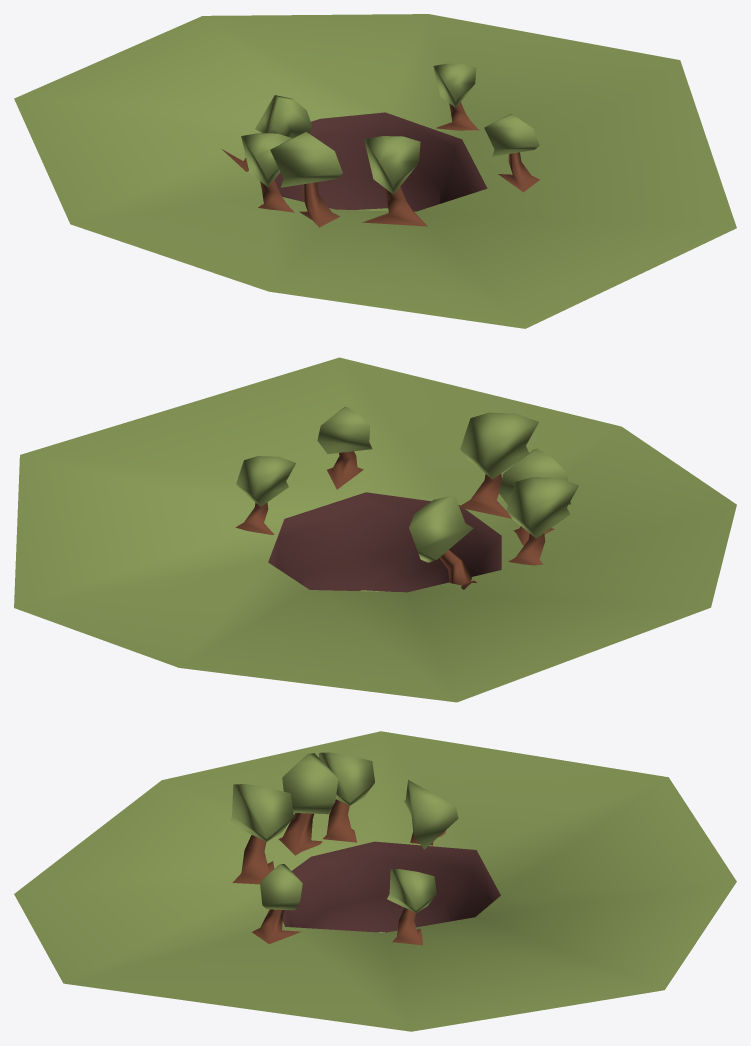
The model's file is DemoSceneProj.fbx.
The picture shows the model from 3 angles, top to bottom: view 1: azimuth 30°, elevation 25°; view 2: azimuth 150°, elevation 25°; view 3: azimuth 270°, elevation 25°; orthographic projection. The views are drawn at different scales.
Visible parts, largest first — view 1: Cylinder, Tree_003, Tree_002, Tree_005, Tree_001, Tree, Tree_004; view 2: Cylinder, Tree_002, Tree_001, Tree_004, Tree, Tree_005, Tree_003; view 3: Cylinder, Tree_002, Tree_003, Tree_001, Tree, Tree_005, Tree_004.
Boxes of the visible parts, left/top/right/bottom form: Cylinder: left=14, top=14, right=736, bottom=328; Tree_003: left=270, top=131, right=342, bottom=227; Tree_002: left=362, top=136, right=427, bottom=226; Tree_005: left=484, top=114, right=539, bottom=192; Tree_001: left=241, top=133, right=294, bottom=212; Tree: left=433, top=63, right=479, bottom=130; Tree_004: left=222, top=95, right=312, bottom=171; Cylinder: left=14, top=357, right=736, bottom=702; Tree_002: left=459, top=412, right=538, bottom=518; Tree_001: left=506, top=477, right=578, bottom=565; Tree_004: left=409, top=495, right=476, bottom=589; Tree: left=235, top=456, right=296, bottom=534; Tree_005: left=317, top=406, right=372, bottom=489; Tree_003: left=499, top=448, right=570, bottom=545; Cylinder: left=14, top=731, right=736, bottom=1031; Tree_002: left=228, top=784, right=293, bottom=884; Tree_003: left=278, top=753, right=338, bottom=855; Tree_001: left=319, top=752, right=374, bottom=842; Tree: left=387, top=869, right=436, bottom=945; Tree_005: left=252, top=864, right=302, bottom=944; Tree_004: left=404, top=780, right=458, bottom=849.
Size of the model in its own units: 8.76 by 2.13 by 8.89.
